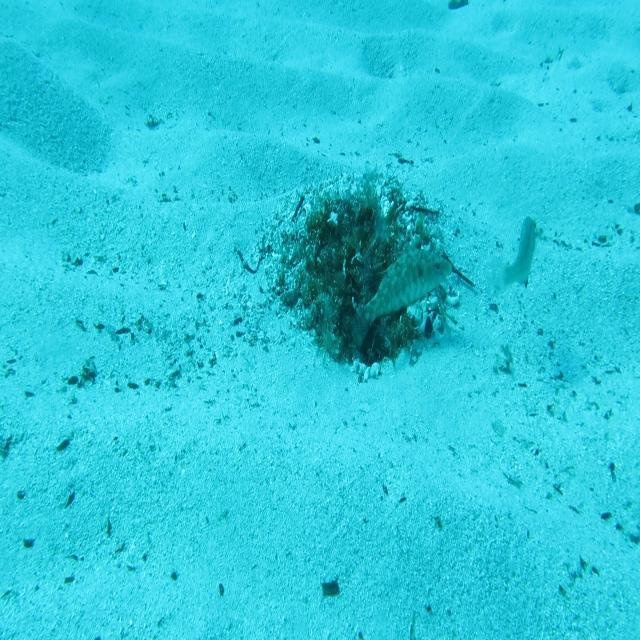MAF: (346, 233, 454, 350)
core_nest: (333, 208, 378, 261)
female: (482, 214, 538, 300)
nest: (259, 155, 478, 393)
vegetation: (321, 575, 343, 598), (448, 0, 468, 14)
